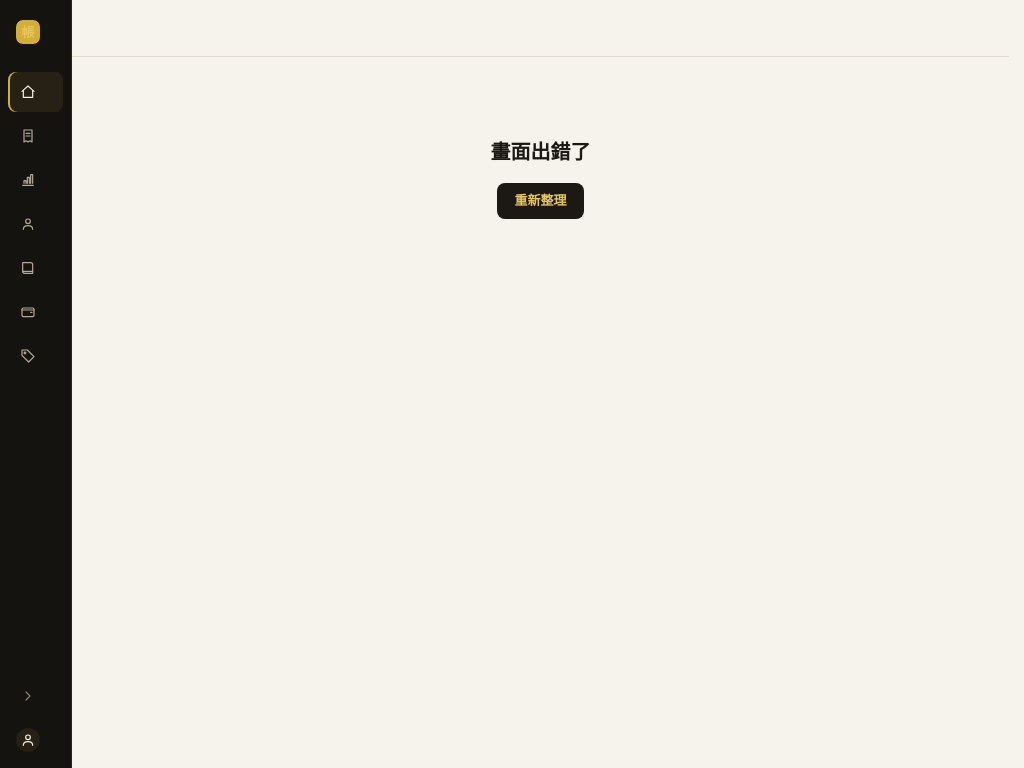
AppSidebar 在 901–1199px 的浮動展開 › retracts when the user presses Escape
Click the button named "展開側欄" at (36, 696), box 8,676 -> 63,716
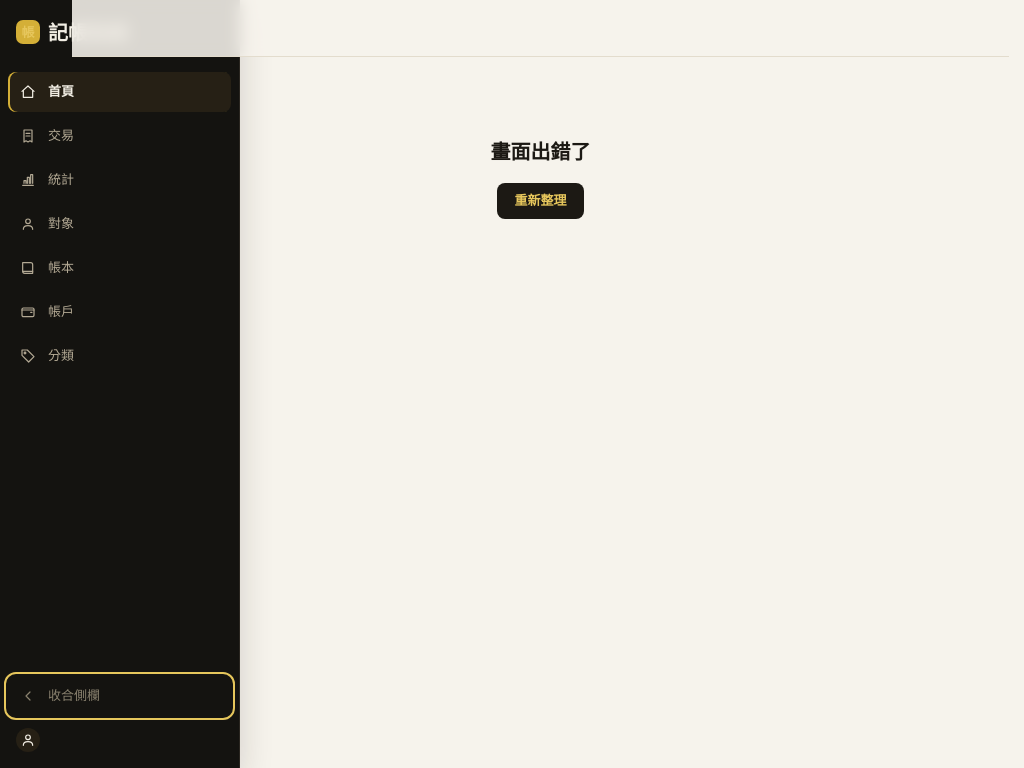
Press Escape
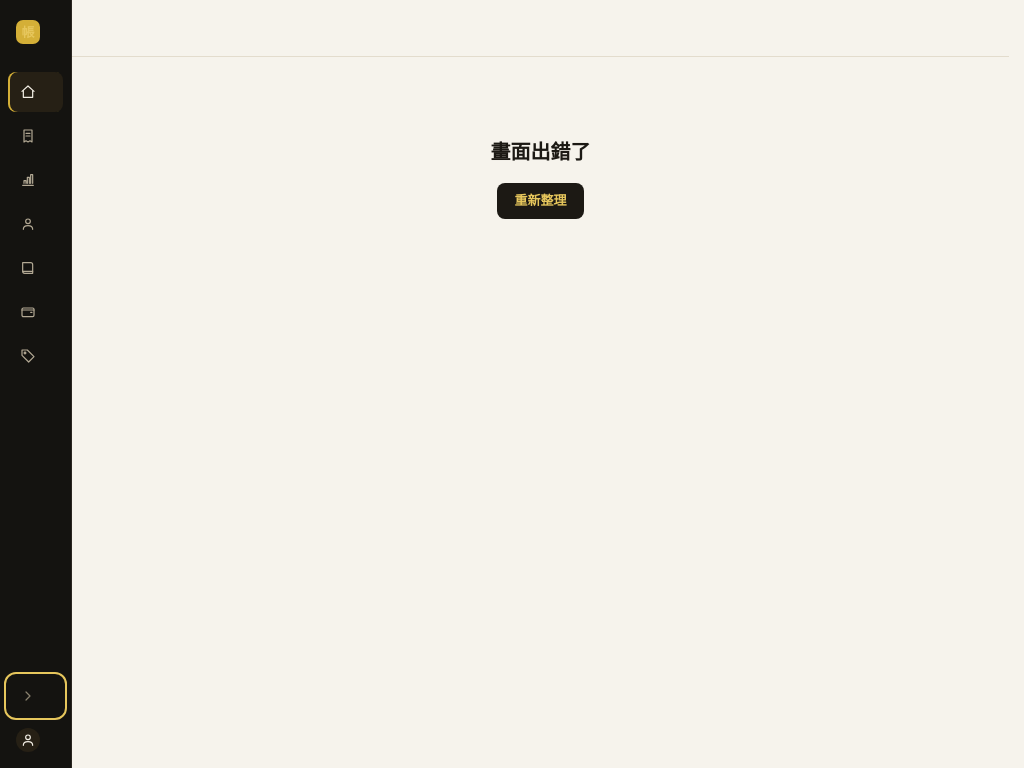
Check: the button named "展開側欄" is shown, box 8,676 -> 63,716
